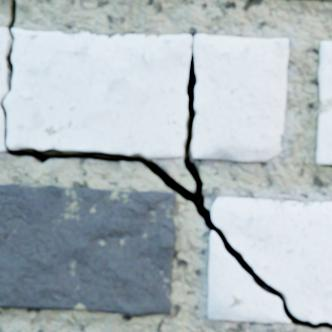brick: (0, 184, 176, 315), (316, 43, 331, 165), (312, 0, 331, 1)
broken_brick: (5, 29, 191, 158), (211, 197, 331, 322), (192, 35, 287, 161), (208, 231, 289, 322), (0, 28, 8, 101), (0, 107, 7, 152)
crack: (0, 0, 331, 330)
